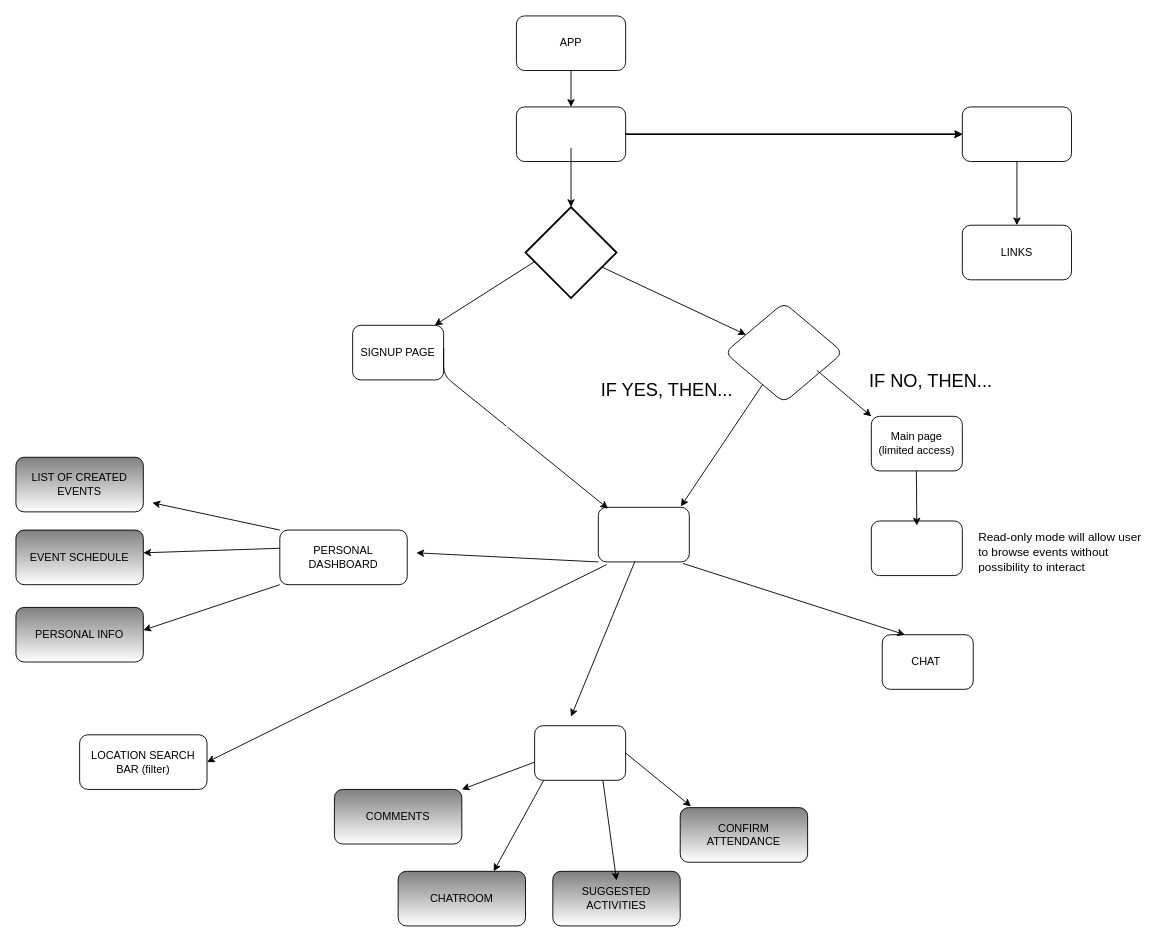
This 1162x942 diagram has some shape labels left out. The shapes that lost their labels are listed below. From the top down, each one's centre as x and y in pixels, then its label:
point 571,134: LANDING PAGE
point 1016,134: NAVBAR
point 570,252: Already registered?
point 783,352: LOGIN POP UP if yes, User Access
point 643,534: Main page (full access)
point 916,548: EVENTS (read mode)
point 580,752: EVENT
